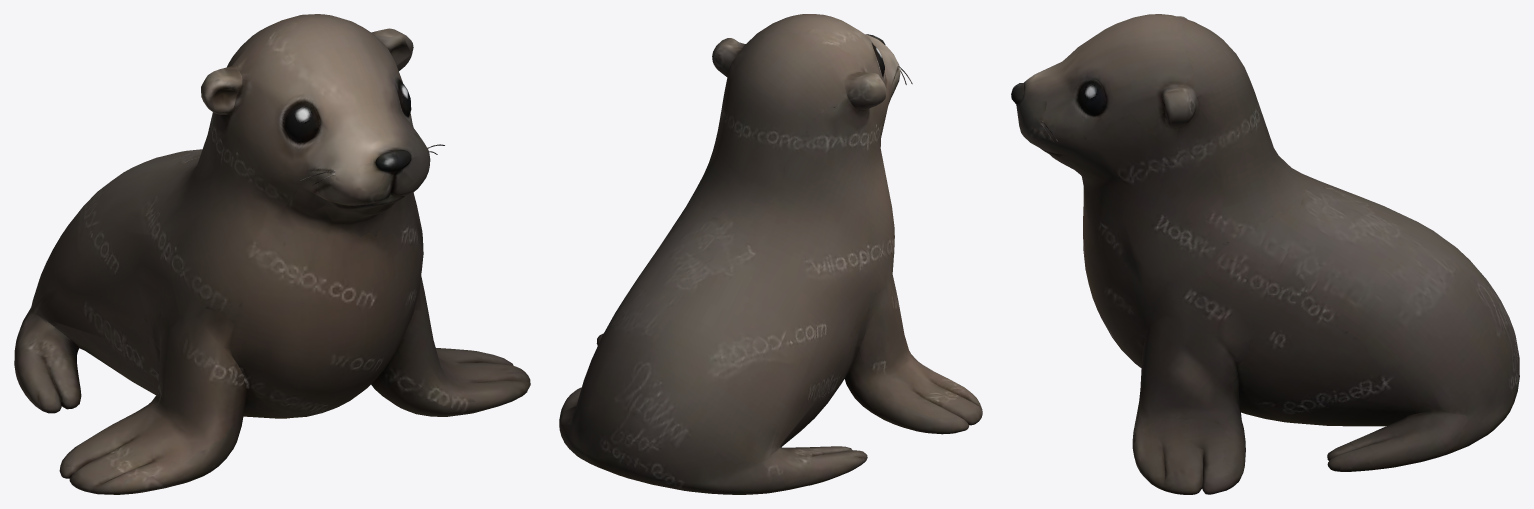
The model's file is sealion_pbr.glb.
The picture shows the model from 3 angles, left to right: view 1: azimuth 30°, elevation 25°; view 2: azimuth 150°, elevation 25°; view 3: azimuth 270°, elevation 25°; orthographic projection. The views are drawn at different scales.
Parts seen in each view (by area): view 1: model; view 2: model; view 3: model.
Part boxes in pixels (x1,y1,x2,y2): model: (14,14,530,494); model: (559,14,982,494); model: (1011,14,1519,494).
Bounding box in the file's own units: 1.64 × 1.46 × 1.79.
Materials: 1 (1 with a texture image).
